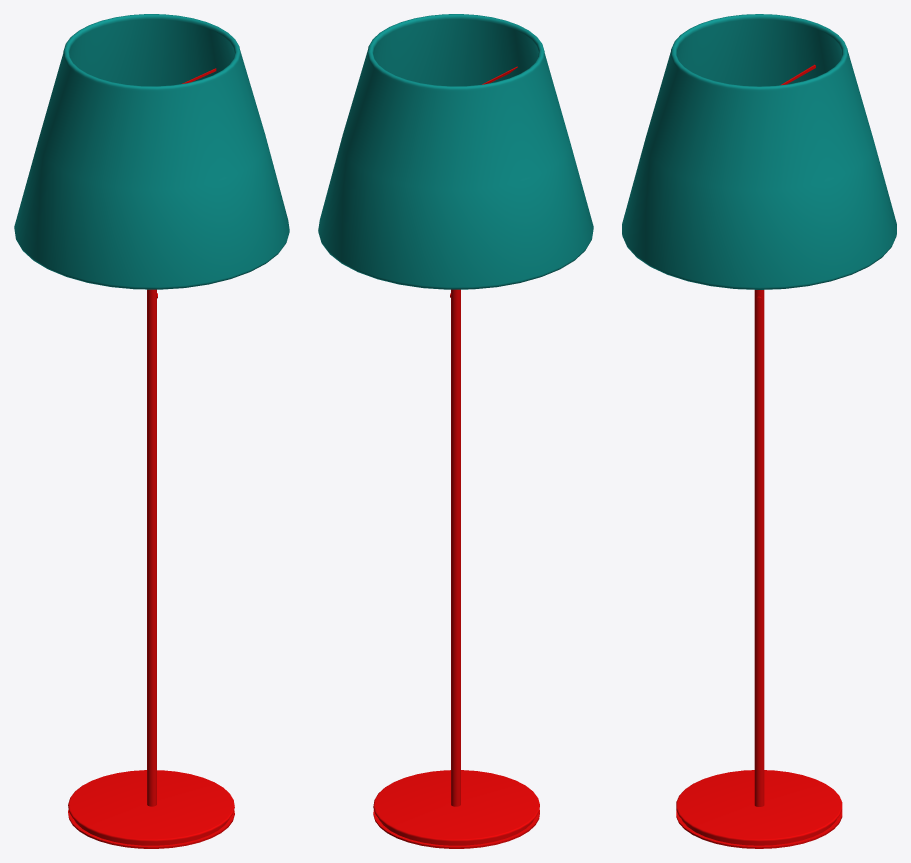
File: Livingroom Lamp.fbx
3 views of the same model, side by side, from view 1: azimuth 30°, elevation 25°; view 2: azimuth 150°, elevation 25°; view 3: azimuth 270°, elevation 25° (orthographic).
Visible parts, largest first — view 1: Cylinder002; view 2: Cylinder002; view 3: Cylinder002.
Boxes of the visible parts, <box> form: Cylinder002: <box>14,14,289,848</box>; Cylinder002: <box>318,14,593,848</box>; Cylinder002: <box>622,14,896,848</box>.
Bounding box in the file's own units: 24.19 × 73.83 × 24.08.
